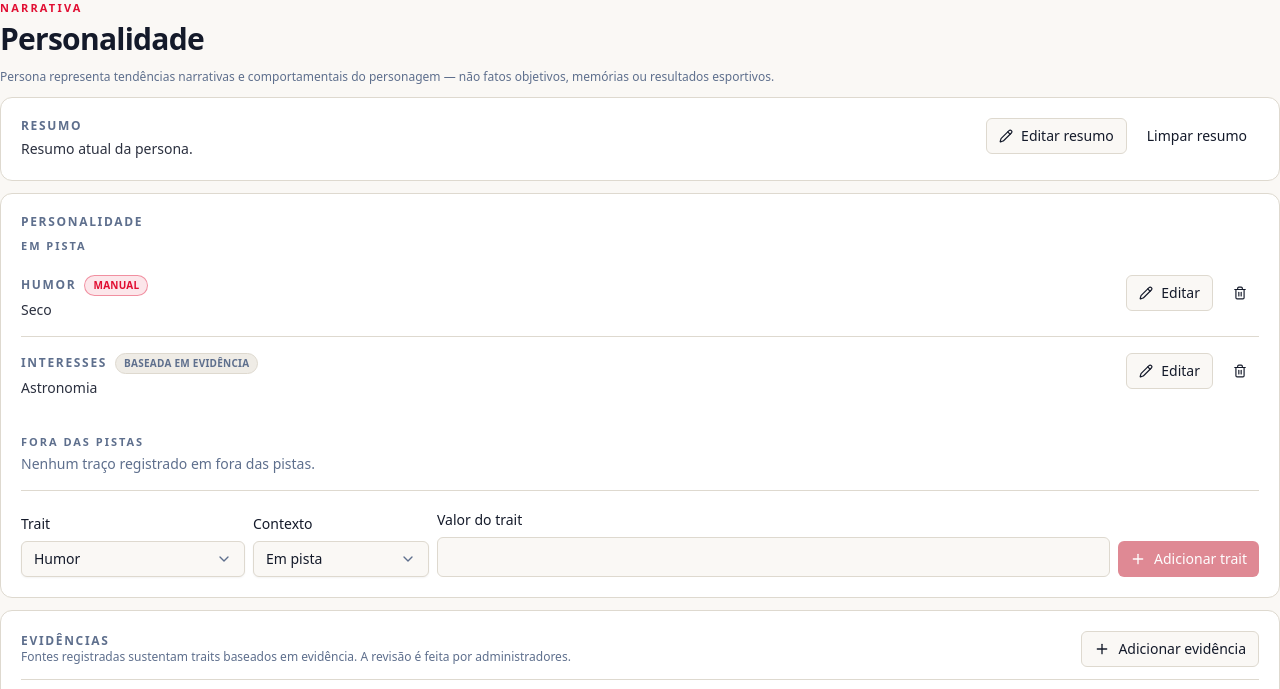
Scenario: PersonaSection — mutations › 10) erro de validação da API é exibido ao salvar
The image size is (1280, 689).
Expected: the text "Resumo atual da persona." is shown, [21,138,193,160]
Click the button "Editar resumo": (1056, 136) [986,118,1127,154]
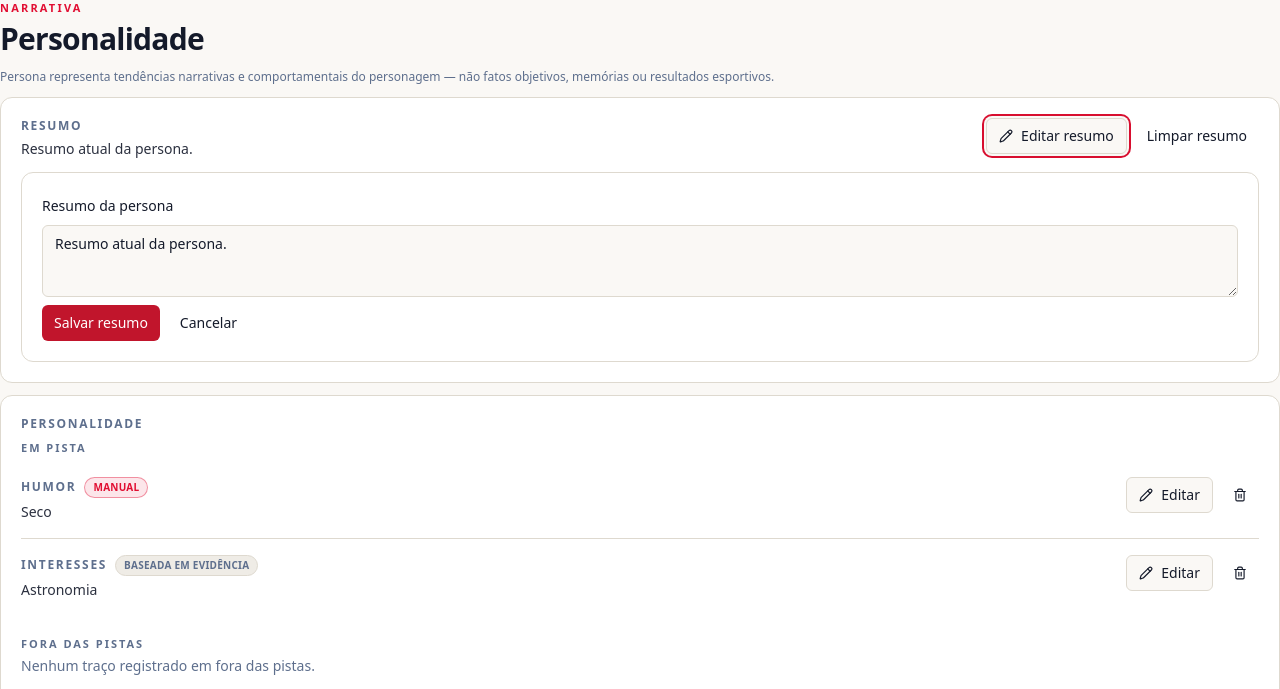
Click the button "Salvar resumo": (101, 323) [42,305,160,341]
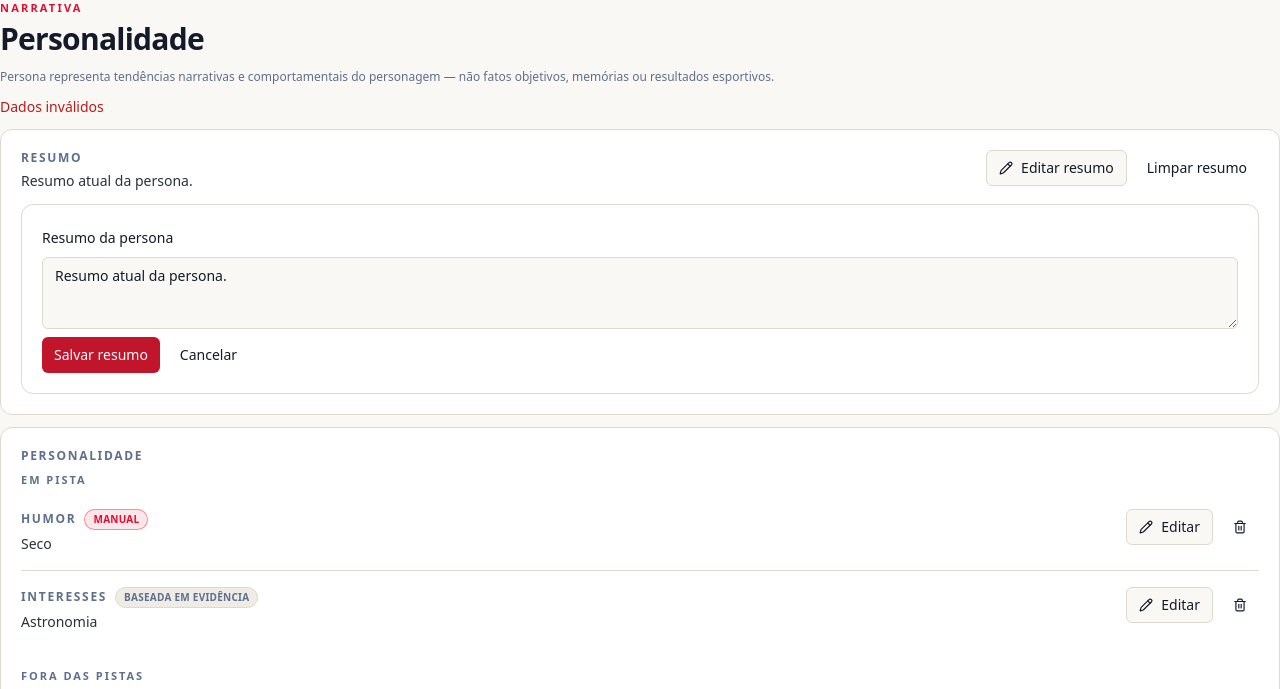
Expected: the text "Dados inválidos" is shown, [0,96,104,116]
